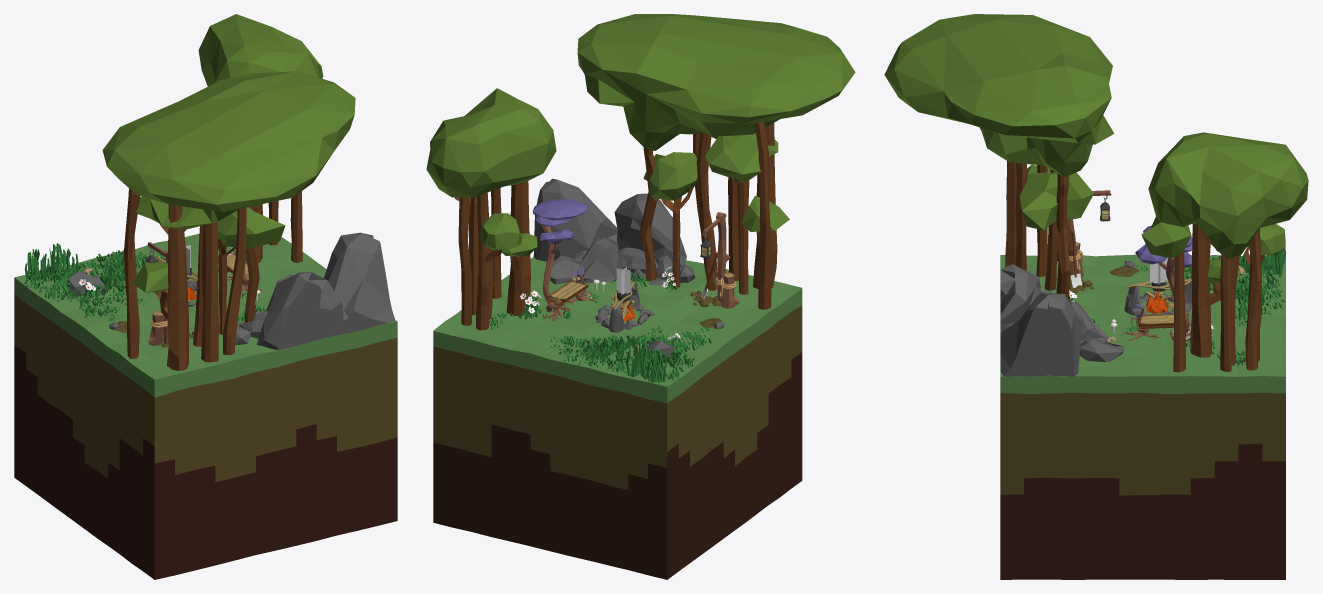
File: Sketchfab_2018_04_04_02_53_38.fbx
The picture shows the model from 3 angles, left to right: view 1: azimuth 30°, elevation 25°; view 2: azimuth 150°, elevation 25°; view 3: azimuth 270°, elevation 25°; orthographic projection. The views are drawn at different scales.
Visible parts, largest first — view 1: Cube, Mball.010, Mball.000, Icosphere.027, Icosphere.028, Cylinder.009, Cylinder.010, Cylinder.006, Cylinder.007, Cylinder.011, Cylinder.004, Cylinder.012 (+3 smaller); view 2: Cube, Mball.010, Mball.000, Icosphere.027, Icosphere.028, Cylinder.006, Cylinder.001, Mball.011, Icosphere.006, Mball.006, Cylinder.002, Cylinder.012 (+11 smaller); view 3: Cube, Mball.010, Mball.000, Icosphere.027, Cylinder.001, Icosphere.028, Cylinder.005, Cylinder.003, Cylinder.011, Cylinder.004, Mball.011, Cylinder.010 (+7 smaller).
Part boxes in pixels (bbox=[...]): Cube: bbox=[14, 233, 397, 579]; Mball.010: bbox=[102, 71, 355, 292]; Mball.000: bbox=[198, 14, 323, 86]; Icosphere.027: bbox=[324, 232, 395, 334]; Icosphere.028: bbox=[257, 272, 343, 350]; Cylinder.009: bbox=[156, 204, 188, 370]; Cylinder.010: bbox=[201, 221, 218, 362]; Cylinder.006: bbox=[123, 188, 140, 358]; Cylinder.007: bbox=[223, 207, 246, 354]; Cylinder.011: bbox=[245, 206, 259, 322]; Cylinder.004: bbox=[290, 191, 302, 262]; Cylinder.012: bbox=[193, 225, 203, 346]; Cube: bbox=[433, 257, 802, 579]; Mball.010: bbox=[577, 14, 855, 231]; Mball.000: bbox=[426, 88, 556, 197]; Icosphere.027: bbox=[533, 178, 617, 261]; Icosphere.028: bbox=[614, 193, 686, 265]; Cylinder.006: bbox=[754, 122, 771, 309]; Cylinder.001: bbox=[506, 181, 530, 316]; Mball.011: bbox=[479, 213, 537, 256]; Icosphere.006: bbox=[577, 237, 623, 282]; Mball.006: bbox=[532, 199, 586, 244]; Cylinder.002: bbox=[476, 193, 501, 330]; Cylinder.012: bbox=[696, 132, 717, 290]; Cube: bbox=[1000, 254, 1285, 579]; Mball.010: bbox=[884, 14, 1114, 230]; Mball.000: bbox=[1141, 132, 1308, 258]; Icosphere.027: bbox=[1000, 292, 1082, 376]; Cylinder.001: bbox=[1190, 224, 1220, 357]; Icosphere.028: bbox=[1000, 264, 1040, 332]; Cylinder.005: bbox=[1245, 230, 1261, 370]; Cylinder.003: bbox=[1202, 231, 1237, 371]; Cylinder.011: bbox=[1056, 173, 1070, 299]; Cylinder.004: bbox=[1173, 251, 1185, 372]; Mball.011: bbox=[1207, 224, 1285, 283]; Cylinder.010: bbox=[1006, 161, 1016, 266].
Size of the model in its own units: 2467 by 3409 by 2882.
